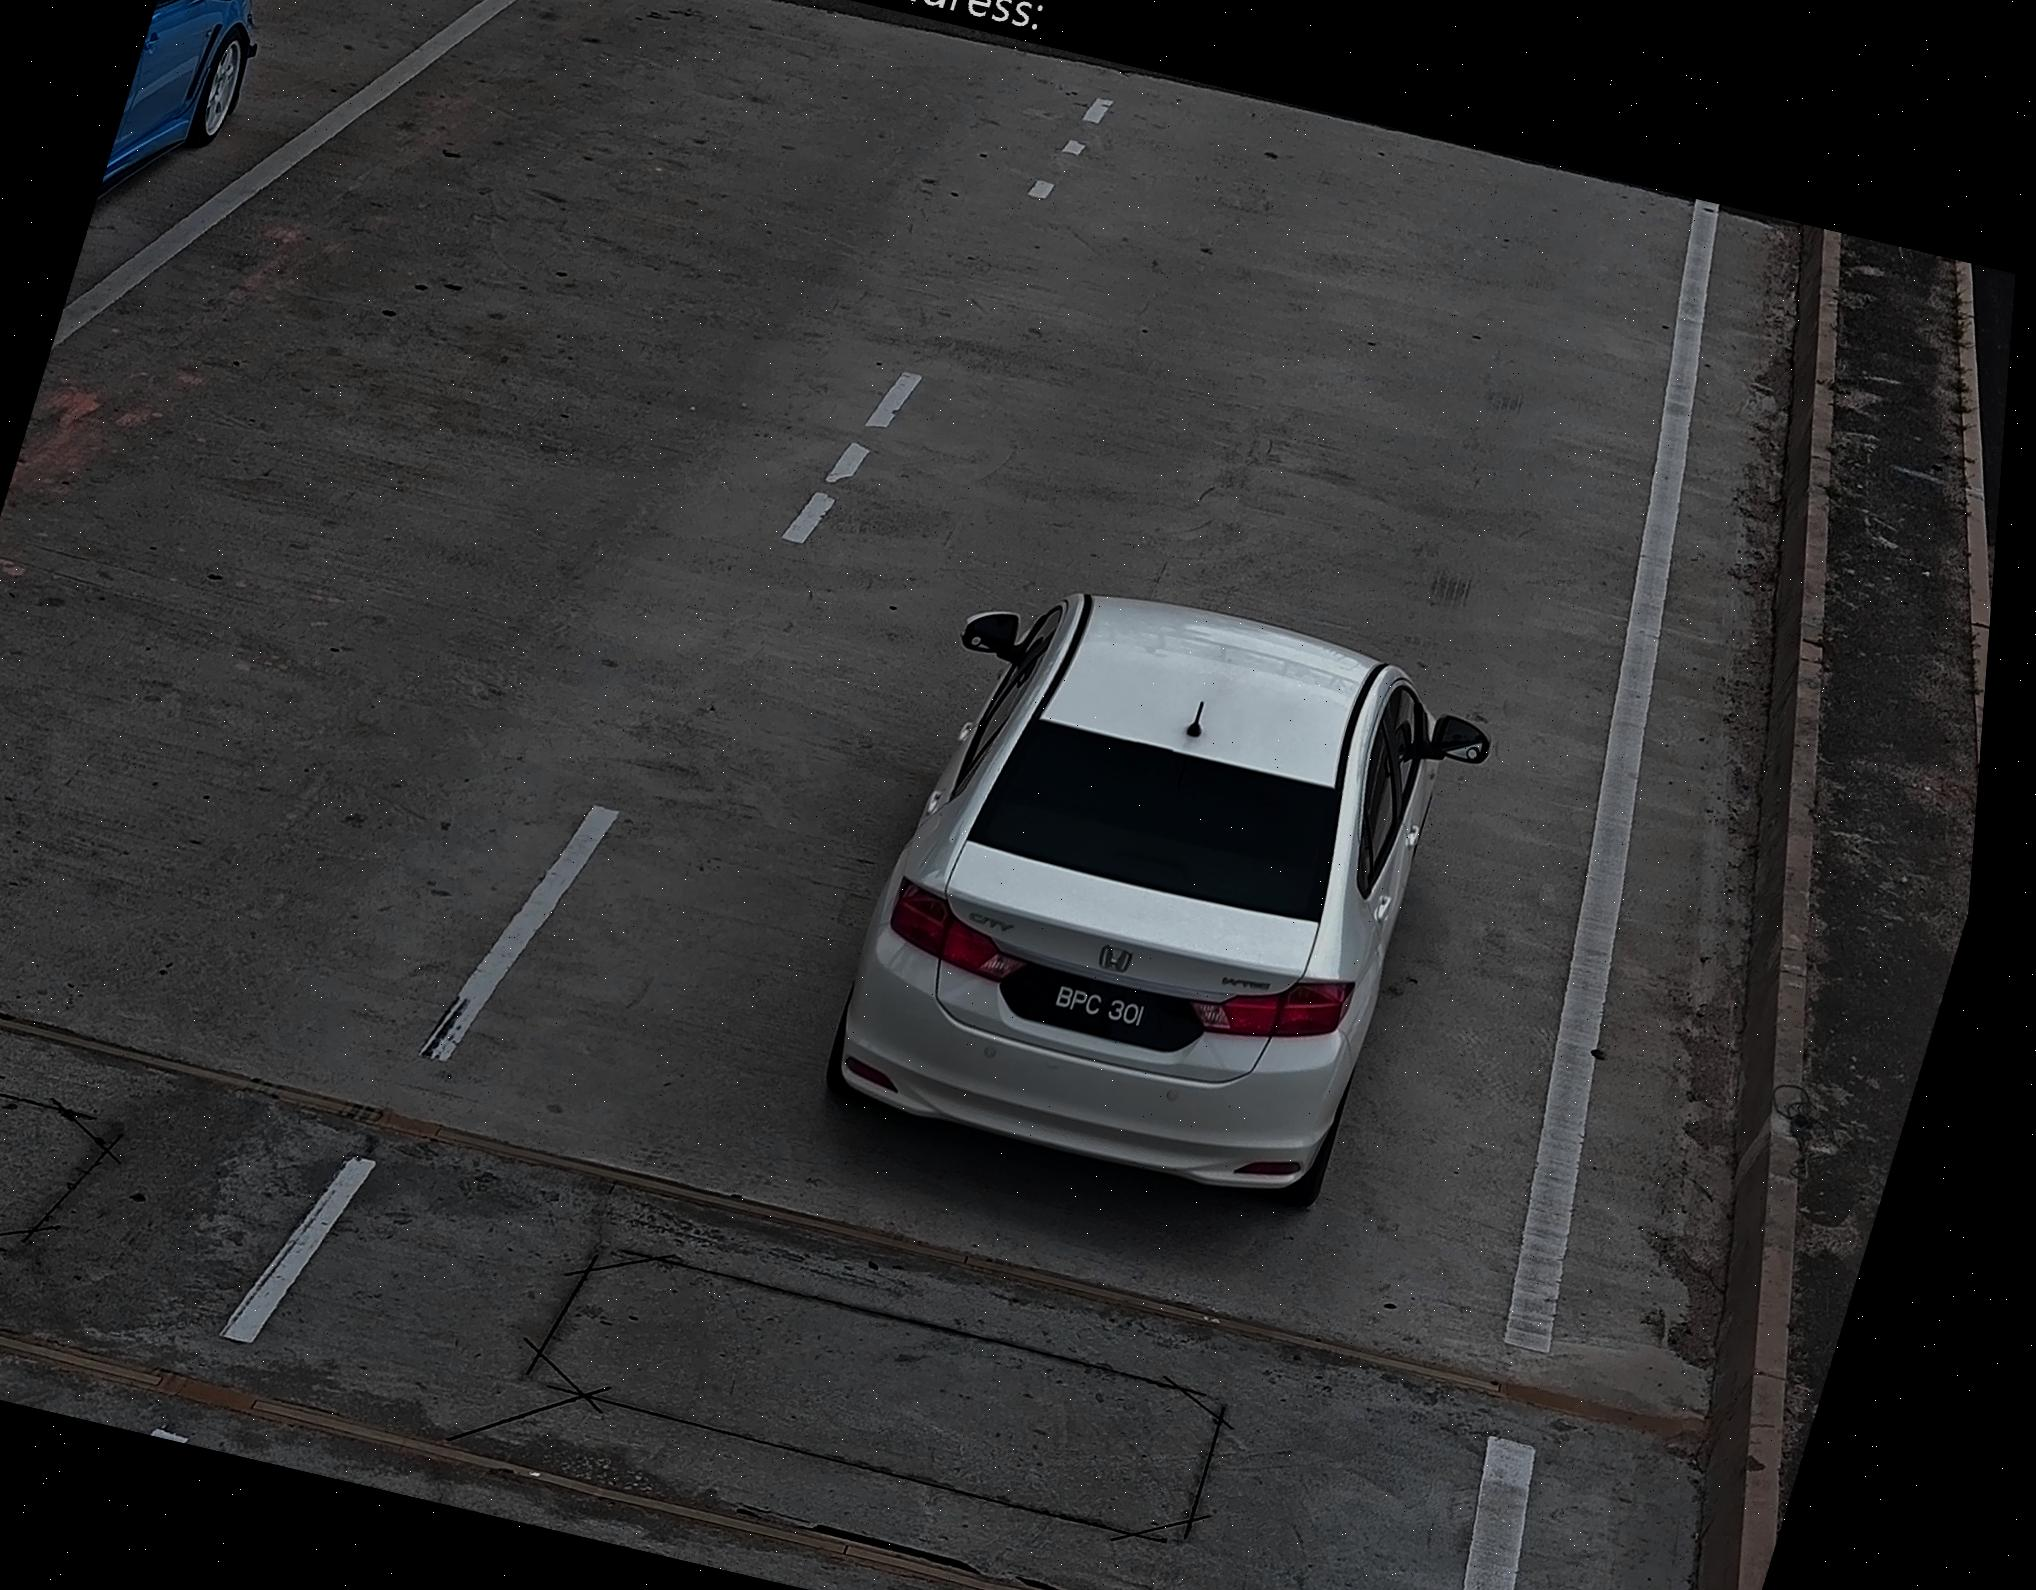non broken: (1013, 962, 1193, 1059)
